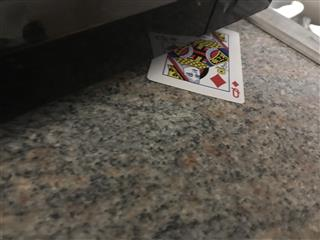QueenOfDiamonds: (145, 26, 245, 104)
